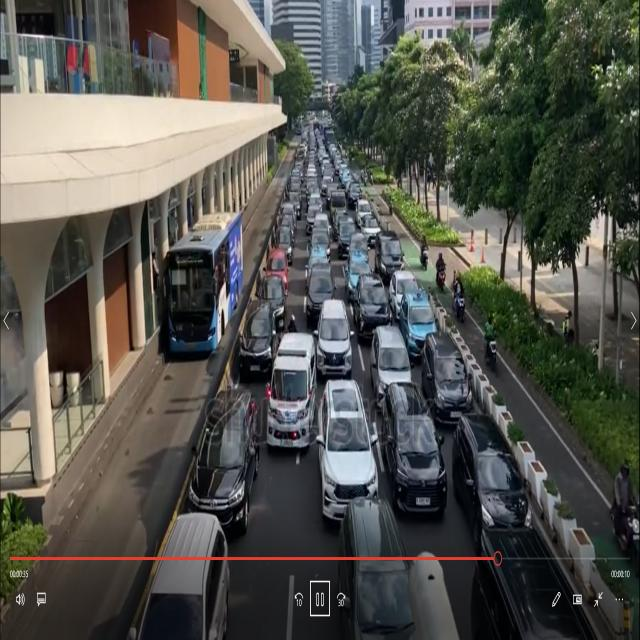Ambulance: (265, 313, 319, 460)
